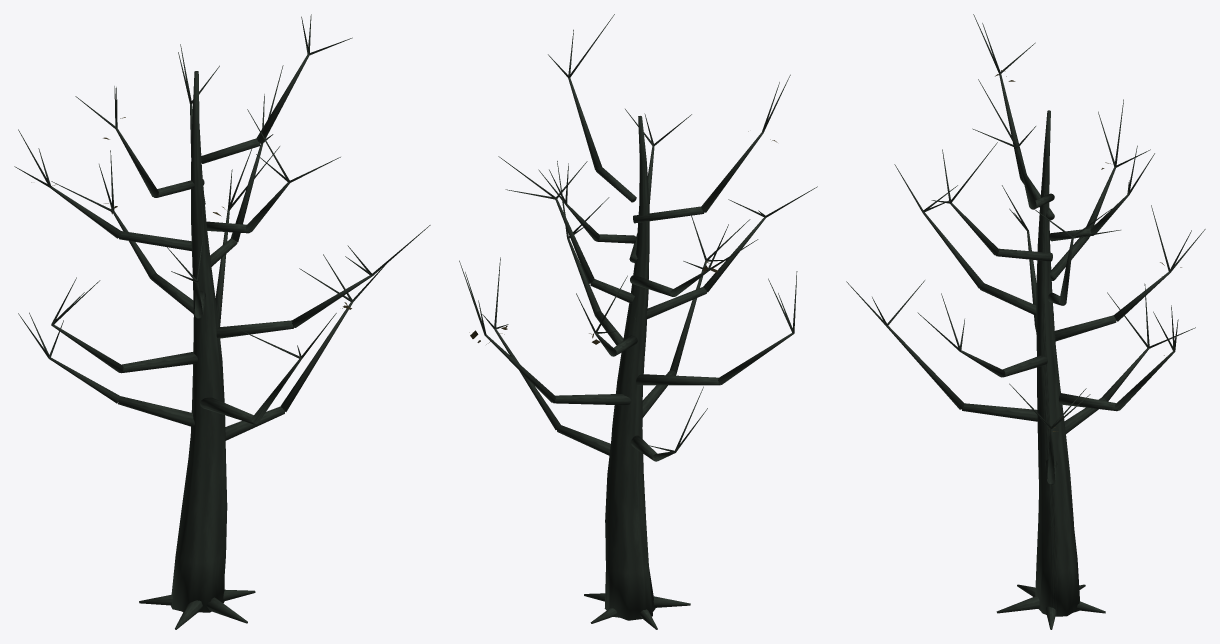
File: tree_dead.glb
3 renders of one model, left to right at view 1: azimuth 30°, elevation 25°; view 2: azimuth 150°, elevation 25°; view 3: azimuth 270°, elevation 25°, orthographic. The views are drawn at different scales.
Visible parts, largest first — view 1: Twisted_bark_trunk.002, Main_branch.029, Main_branch.032, Main_branch.033, Bent_branch.028, Main_branch.037, Main_branch.030, Main_branch.028, Bent_branch.041; view 2: Twisted_bark_trunk.002, Main_branch.032, Main_branch.031, Main_branch.035, Main_branch.028, Main_branch.040, Bent_branch.030, Bent_branch.040, Bent_branch.028, Bent_branch.041, Bent_branch.031, Bent_branch.036; view 3: Twisted_bark_trunk.002, Main_branch.030, Main_branch.034, Bent_branch.030, Main_branch.031, Main_branch.035, Bent_branch.035.
Part boxes in pixels (left/top/right/bottom): Twisted_bark_trunk.002: left=170, top=71, right=227, bottom=612; Main_branch.029: left=118, top=396, right=194, bottom=426; Main_branch.032: left=120, top=351, right=197, bottom=373; Main_branch.033: left=216, top=320, right=293, bottom=338; Bent_branch.028: left=280, top=302, right=352, bottom=411; Main_branch.037: left=119, top=231, right=191, bottom=251; Main_branch.030: left=200, top=397, right=255, bottom=424; Main_branch.028: left=225, top=406, right=284, bottom=440; Bent_branch.041: left=256, top=54, right=308, bottom=143; Twisted_bark_trunk.002: left=604, top=116, right=655, bottom=620; Main_branch.032: left=636, top=374, right=720, bottom=385; Main_branch.031: left=553, top=394, right=631, bottom=405; Main_branch.035: left=634, top=287, right=706, bottom=321; Main_branch.028: left=557, top=425, right=610, bottom=455; Main_branch.040: left=633, top=206, right=704, bottom=223; Bent_branch.030: left=669, top=261, right=706, bottom=373; Bent_branch.040: left=701, top=133, right=762, bottom=212; Bent_branch.028: left=494, top=329, right=560, bottom=429; Bent_branch.041: left=568, top=77, right=601, bottom=170; Bent_branch.031: left=485, top=334, right=555, bottom=402; Bent_branch.036: left=555, top=199, right=594, bottom=283; Twisted_bark_trunk.002: left=1035, top=110, right=1079, bottom=616; Main_branch.030: left=962, top=403, right=1037, bottom=421; Main_branch.034: left=1055, top=315, right=1116, bottom=341; Bent_branch.030: left=886, top=325, right=964, bottom=409; Main_branch.031: left=1059, top=393, right=1117, bottom=411; Main_branch.035: left=980, top=283, right=1053, bottom=315; Bent_branch.035: left=922, top=212, right=983, bottom=288.
Size of the model in its own units: 4.92 by 8.58 by 5.05.
2 materials, 2 textured.
